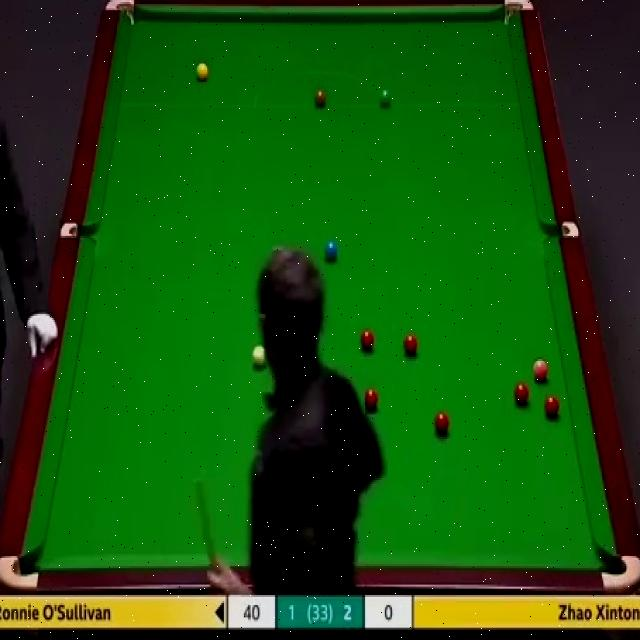blue-ball: (324, 237, 338, 264)
brown-ball: (313, 89, 328, 108)
green-ball: (378, 87, 393, 109)
pink-ball: (532, 359, 550, 380)
red-ball: (432, 411, 450, 436), (362, 387, 378, 413), (360, 327, 375, 352), (404, 332, 418, 358), (544, 394, 560, 416), (513, 382, 530, 402)
white-ball: (250, 346, 266, 368)
yellow-ball: (196, 64, 209, 83)
